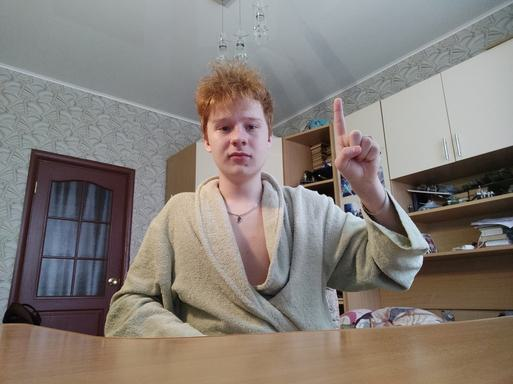one: (329, 95, 383, 187)
